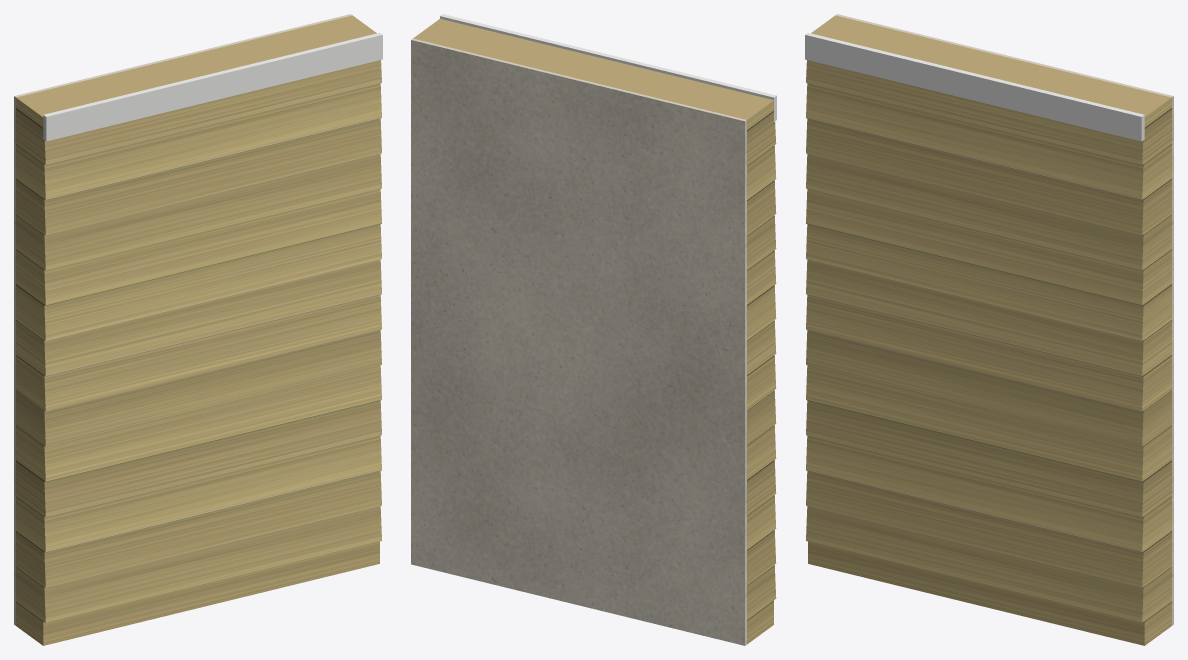
Rendered from wall_siding_plain.glb.
The picture shows the model from 3 angles, left to right: view 1: azimuth 30°, elevation 25°; view 2: azimuth 150°, elevation 25°; view 3: azimuth 330°, elevation 25°; orthographic projection.
Parts seen in each view (by area): view 1: wall_siding_plain_siding, wall_siding_plain_trim, wall_siding_plain_plaster; view 2: wall_siding_plain_plaster, wall_siding_plain_siding, wall_siding_plain_trim; view 3: wall_siding_plain_siding, wall_siding_plain_trim, wall_siding_plain_plaster.
Boxes of the visible parts, x1,y1,x2,y2 form: wall_siding_plain_siding: [16, 15, 381, 645]; wall_siding_plain_trim: [43, 32, 382, 141]; wall_siding_plain_plaster: [14, 14, 352, 625]; wall_siding_plain_plaster: [411, 38, 746, 645]; wall_siding_plain_siding: [413, 19, 776, 644]; wall_siding_plain_trim: [440, 14, 776, 121]; wall_siding_plain_siding: [806, 15, 1171, 645]; wall_siding_plain_trim: [805, 32, 1144, 141]; wall_siding_plain_plaster: [835, 14, 1173, 625].
Size of the model in its own units: 2 by 3.02 by 0.33.
Materials: 3 (2 with a texture image).
